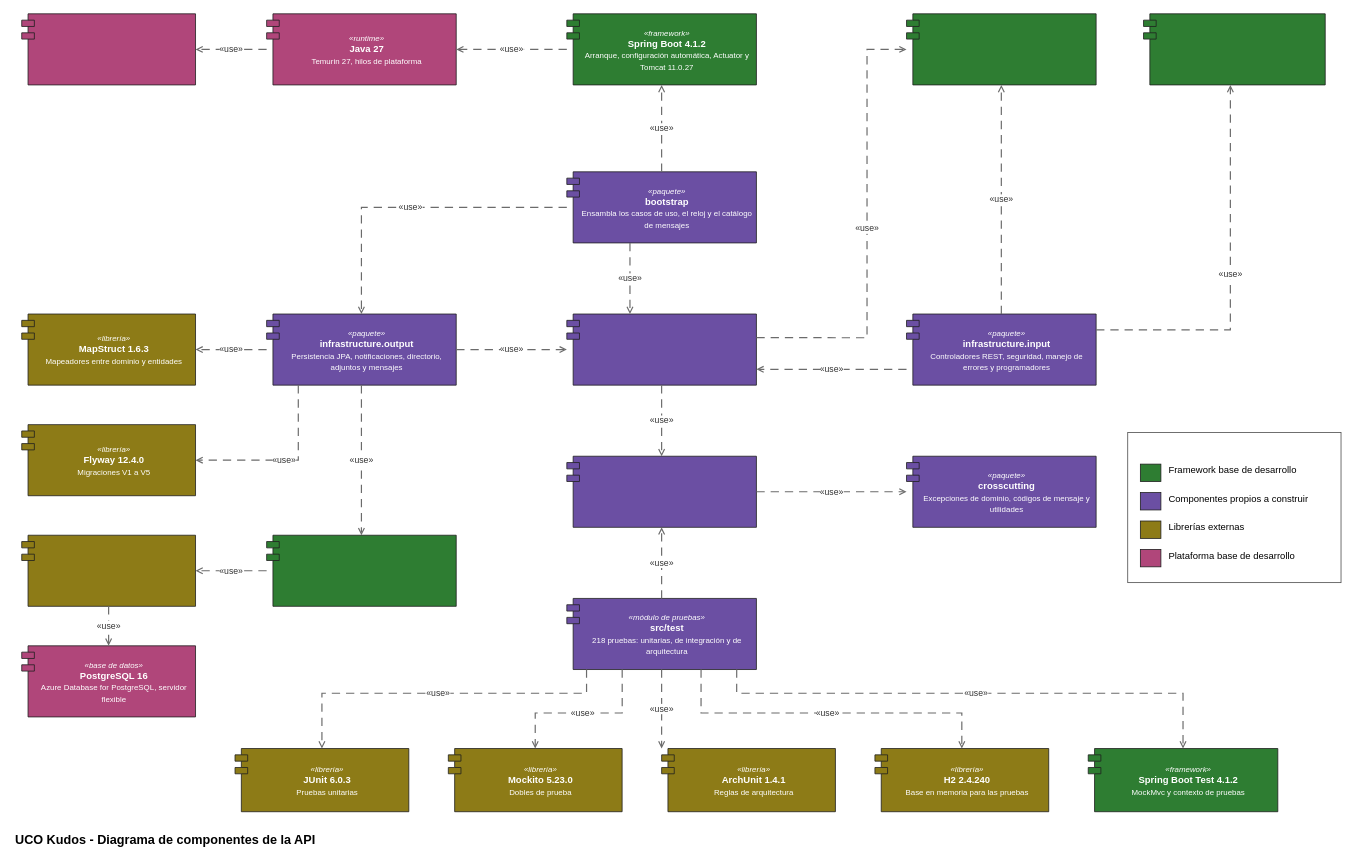
Some shapes in this 1355 by 865 pixel diagram are drawn without their labels. The box of each missing label's shape, as (x1, y1, x2, y2) in pixels:
Tipo de componentes: (1127, 432, 1341, 583)
«contenedores» Docker Imagen eclipse-temurin:27-jre, usuario sin privilegios: (21, 13, 196, 85)
«framework» Spring Data JPA 4.1.2 Hibernate 7.4.13: entidades y repositorios: (266, 534, 456, 606)
«framework» Spring Framework 7.0.10 Web MVC, transacciones, Mail y RestClient: (906, 13, 1096, 85)
«framework» Spring Security 7.1.2 Servidor de recursos OAuth2 y JWT: (1143, 13, 1325, 85)
«librería» PostgreSQL JDBC 42.7.14 Controlador de la base de datos: (21, 534, 196, 606)
«paquete» domain Reglas de negocio y modelo, sin dependencias de marcos: (566, 455, 756, 527)
«paquete» service Casos de uso, puertos de entrada y de salida y DTO: (566, 313, 756, 385)
